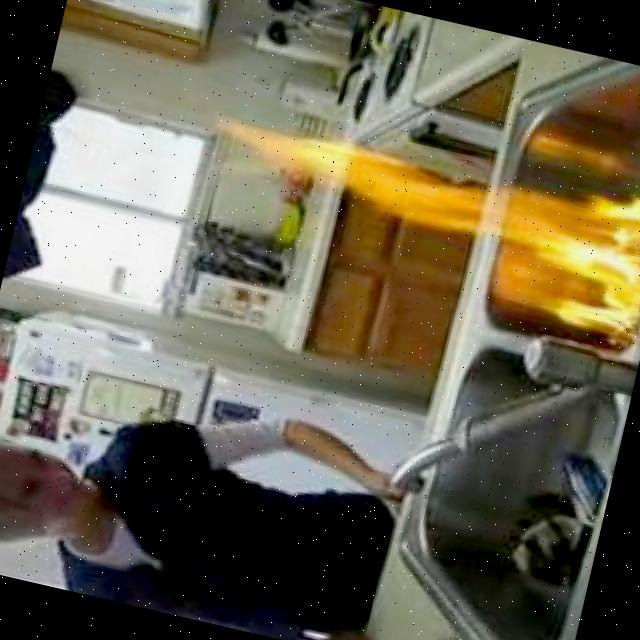fire: (185, 94, 640, 345)
